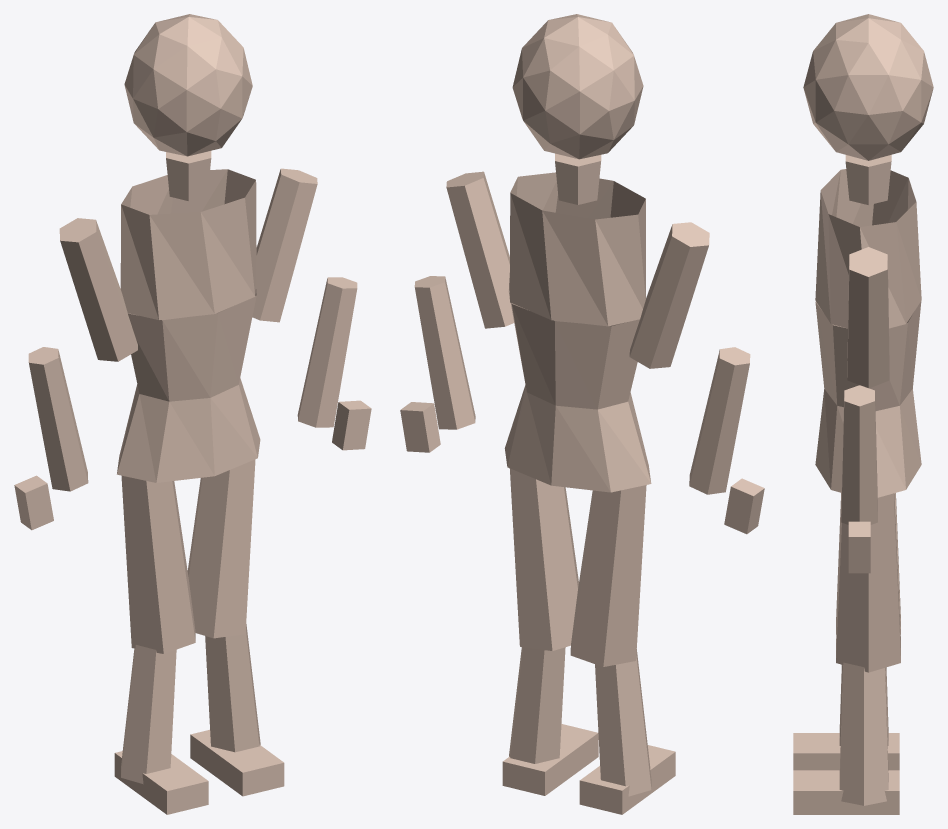
Rendered from IreliaSimpleV2_Body.obj.
3 views of the same model, side by side, from view 1: azimuth 30°, elevation 25°; view 2: azimuth 150°, elevation 25°; view 3: azimuth 270°, elevation 25° (orthographic). The views are drawn at different scales.
Visible parts, largest first — view 1: IreliaSimpleV2_Body; view 2: IreliaSimpleV2_Body; view 3: IreliaSimpleV2_Body.
Boxes of the visible parts, <box> form: IreliaSimpleV2_Body: <box>14,14,371,814</box>; IreliaSimpleV2_Body: <box>400,14,764,814</box>; IreliaSimpleV2_Body: <box>793,14,933,814</box>.
Size of the model in its own units: 0.9165 by 1.91 by 0.3172.
